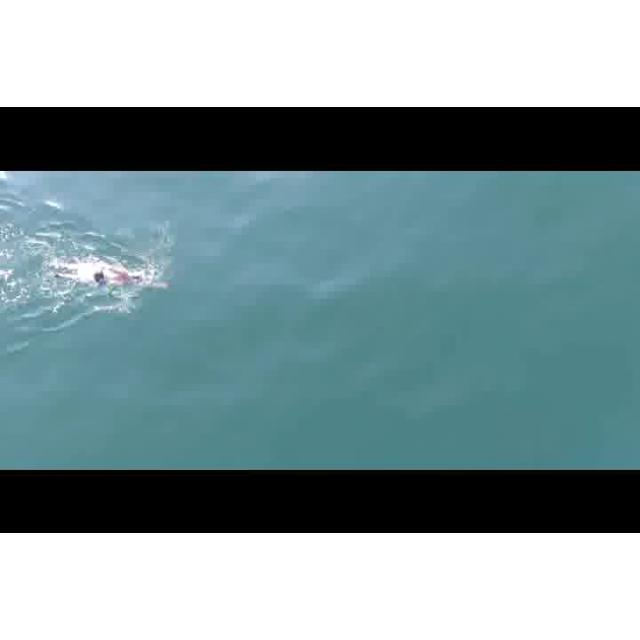human: (52, 252, 176, 292)
